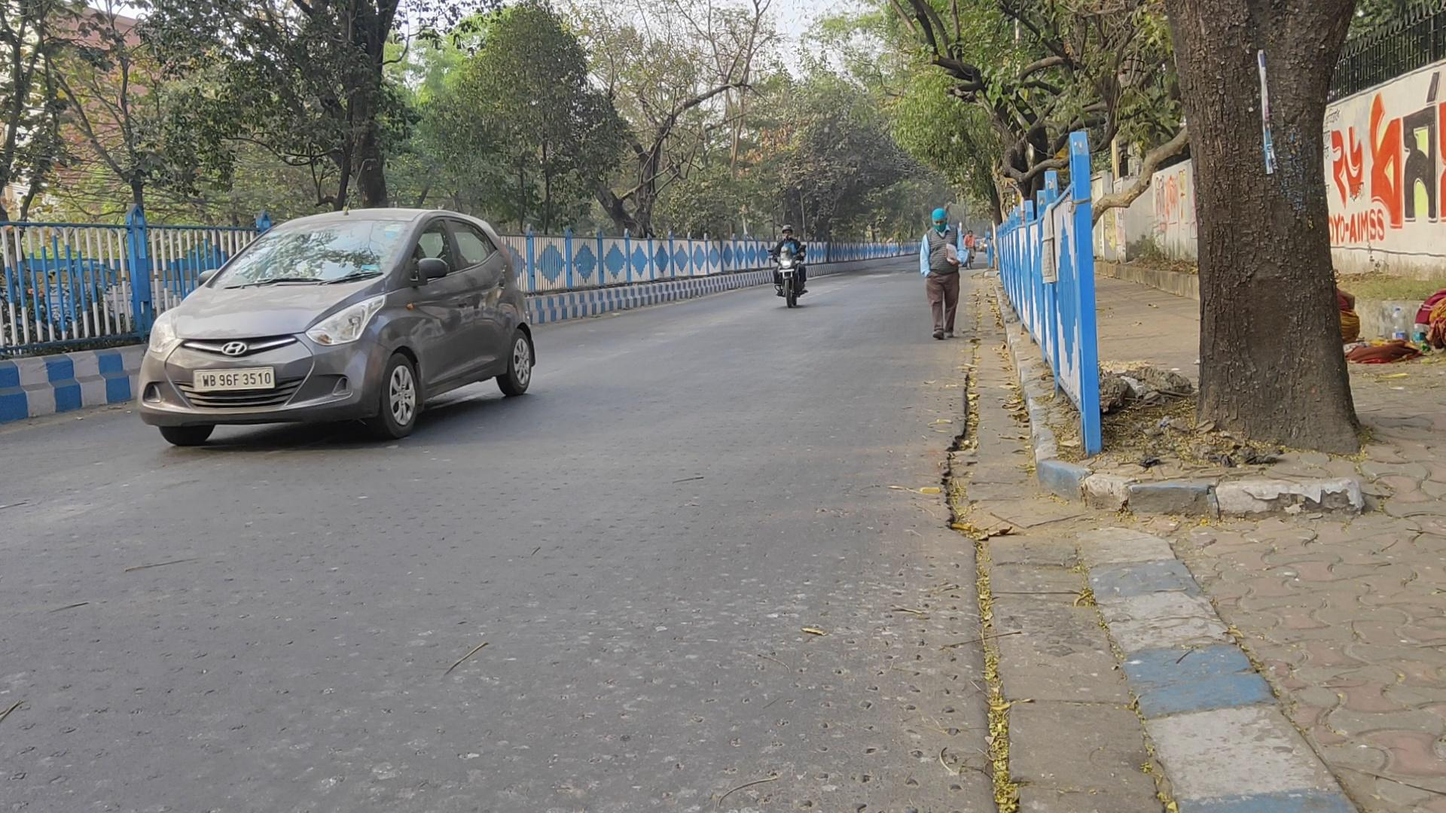bike: (767, 223, 810, 308)
car: (138, 206, 535, 448)
